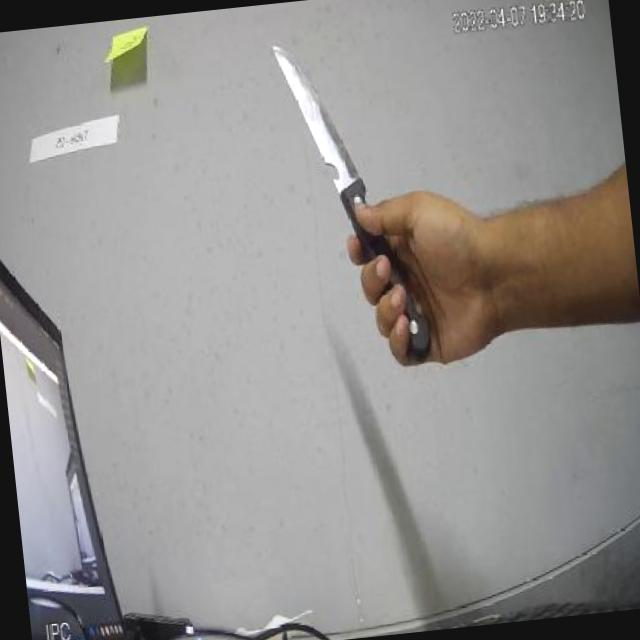knife: (258, 22, 447, 365)
